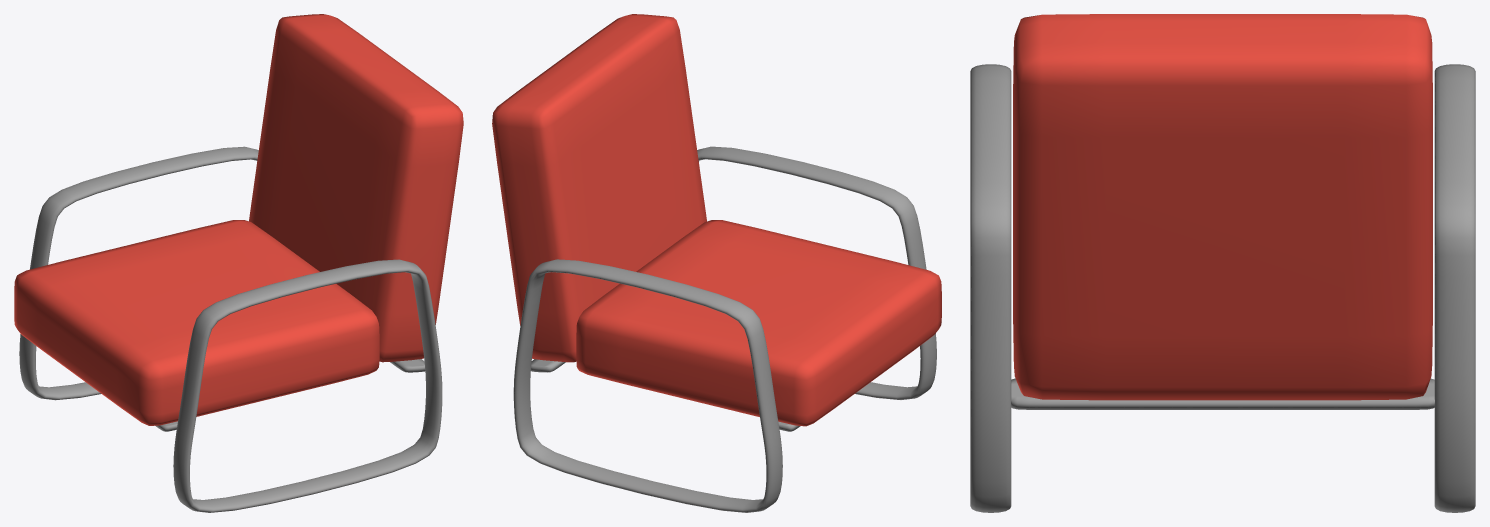
The model's file is Bergere03.fbx.
The picture shows the model from 3 angles, left to right: view 1: azimuth 30°, elevation 25°; view 2: azimuth 150°, elevation 25°; view 3: azimuth 270°, elevation 25°; orthographic projection. The views are drawn at different scales.
Parts seen in each view (by area): view 1: Bergere03; view 2: Bergere03; view 3: Bergere03.
Part boxes in pixels (x1,y1,x2,y2): Bergere03: (14, 14, 463, 512); Bergere03: (492, 14, 941, 512); Bergere03: (970, 14, 1475, 512).
Size of the model in its own units: 0.5999 by 0.5407 by 0.6111.
